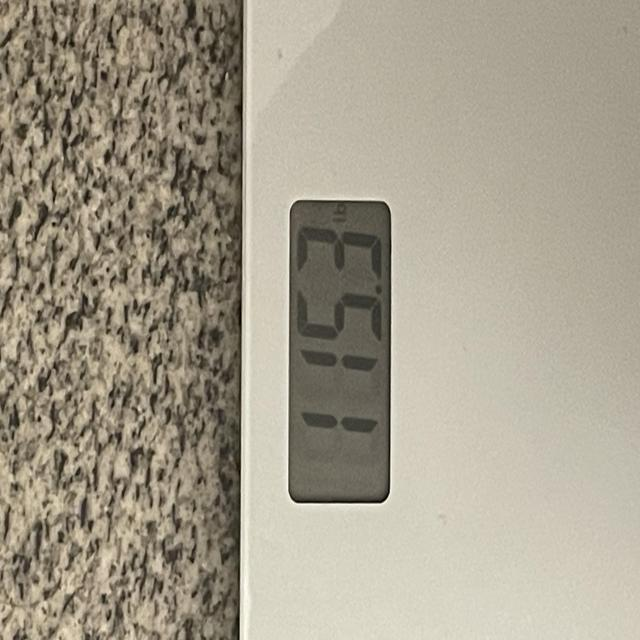ws: (237, 0, 640, 640)
